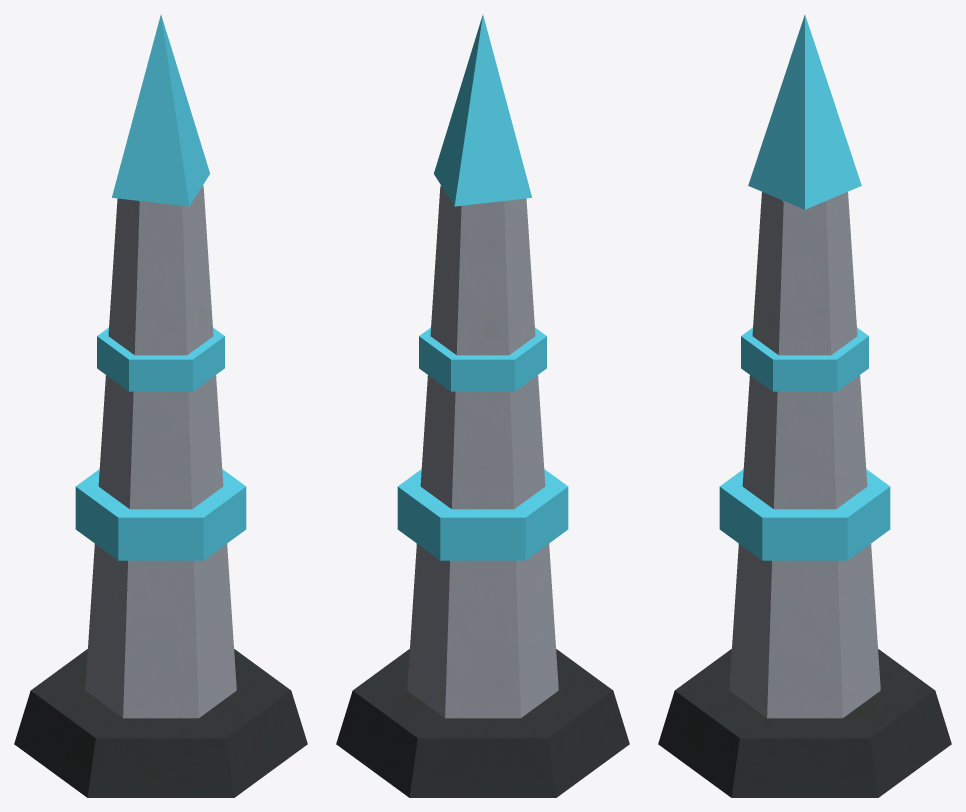
The model's file is signal_pylon_01.glb.
3 renders of one model, left to right at view 1: azimuth 30°, elevation 25°; view 2: azimuth 150°, elevation 25°; view 3: azimuth 270°, elevation 25°, orthographic.
Visible parts, largest first — view 1: signal_pylon_01; view 2: signal_pylon_01; view 3: signal_pylon_01.
Boxes of the visible parts, bbox=[...] form: signal_pylon_01: bbox=[14, 15, 307, 797]; signal_pylon_01: bbox=[336, 15, 629, 797]; signal_pylon_01: bbox=[658, 15, 951, 797].
Bounding box in the file's own units: 1.07 × 3.4 × 1.24.
Materials: 3 (3 with a texture image).
